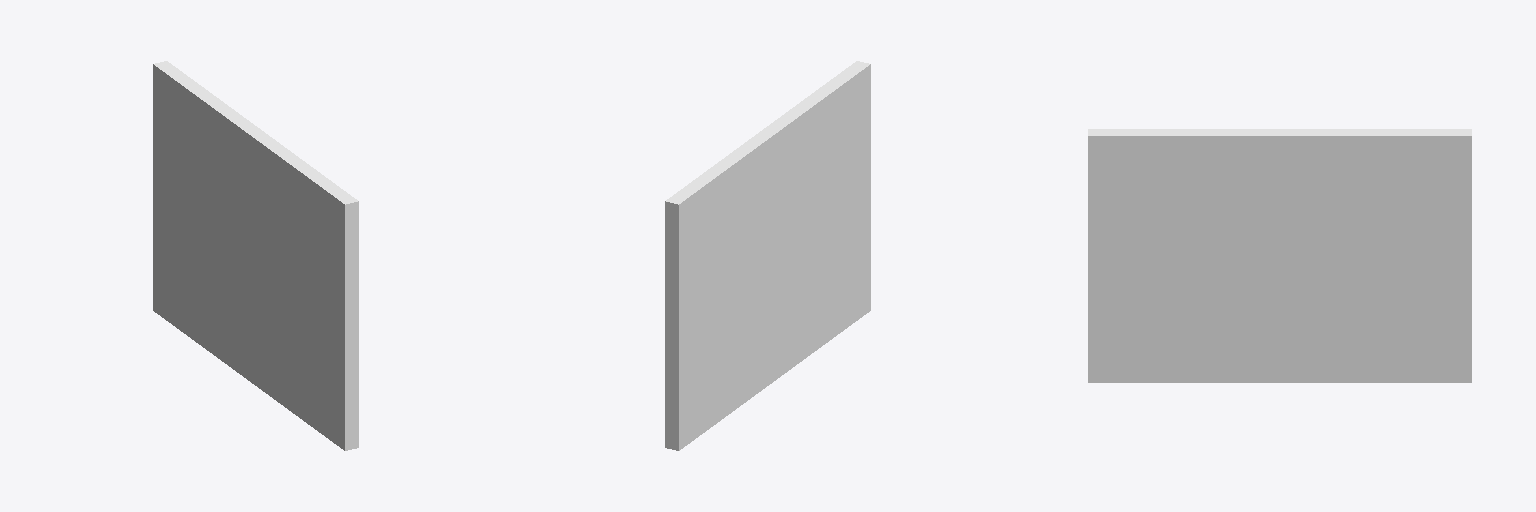
The model's file is fullsky-2.obj.
3 renders of one model, left to right at view 1: azimuth 30°, elevation 25°; view 2: azimuth 150°, elevation 25°; view 3: azimuth 270°, elevation 25°, orthographic.
Parts seen in each view (by area): view 1: object 1; view 2: object 1; view 3: object 1.
Part boxes in pixels (x1,y1,x2,y2): object 1: (153, 61, 358, 450); object 1: (665, 61, 870, 450); object 1: (1088, 129, 1471, 382).
Size of the model in its own units: 0.2 by 3.4 by 4.8.